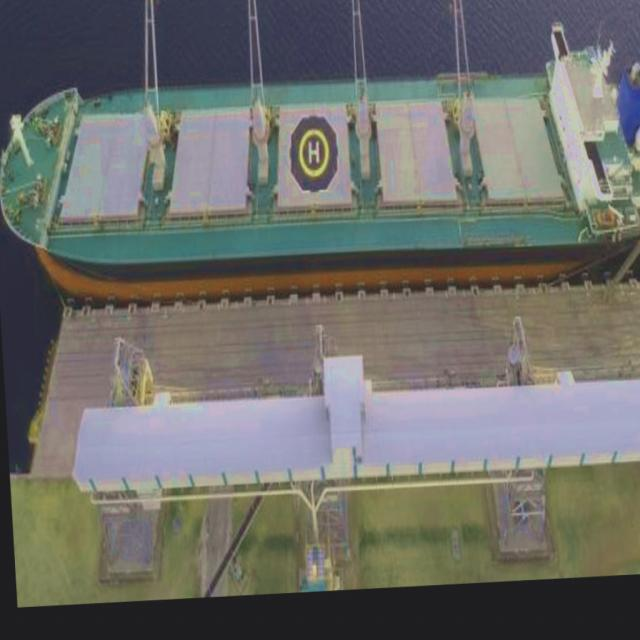helipad: (296, 127, 330, 177)
